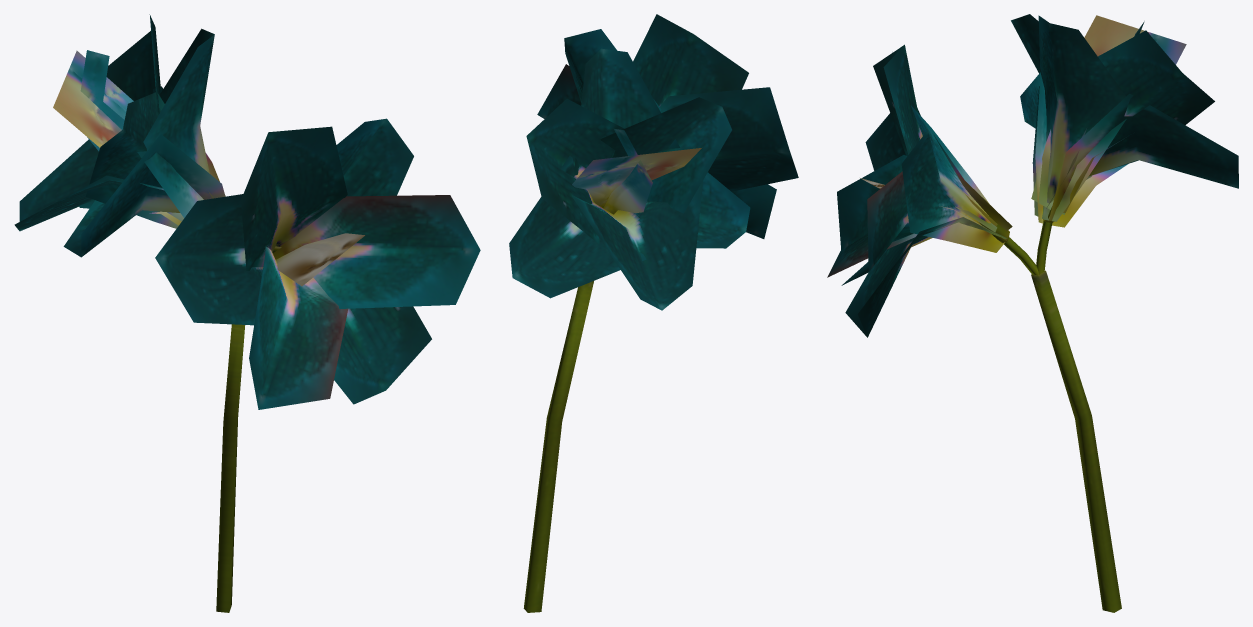
Rendered from Amaryllis_baby_short_cyan.glb.
3 renders of one model, left to right at view 1: azimuth 30°, elevation 25°; view 2: azimuth 150°, elevation 25°; view 3: azimuth 270°, elevation 25°, orthographic. The views are drawn at different scales.
Visible parts, largest first — view 1: baby; view 2: baby; view 3: baby.
Part boxes in pixels (x1=…): baby: x1=14, y1=14, x2=480, y2=612; baby: x1=509, y1=14, x2=798, y2=612; baby: x1=827, y1=14, x2=1238, y2=612.
Size of the model in its own units: 0.6819 by 1.24 by 0.8184.
Materials: 1 (1 with a texture image).
